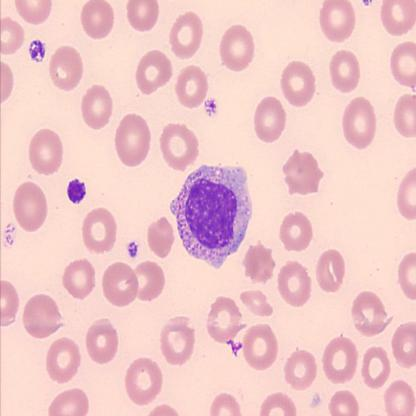Myelocyte: (174, 165, 254, 266)
